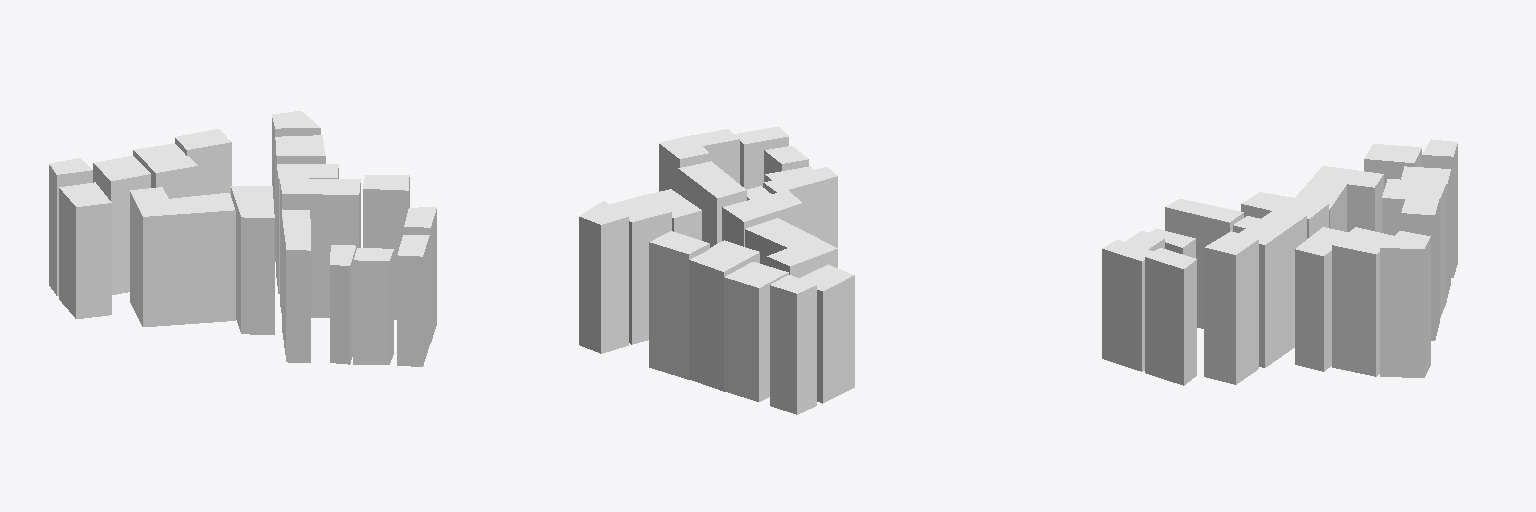
The model's file is Level_v1-Buildings.obj.
3 renders of one model, left to right at view 1: azimuth 30°, elevation 25°; view 2: azimuth 150°, elevation 25°; view 3: azimuth 270°, elevation 25°, orthographic.
Parts seen in each view (by area): view 1: Level_v1-Buildings; view 2: Level_v1-Buildings; view 3: Level_v1-Buildings.
Part boxes in pixels (left/top/right/bottom): Level_v1-Buildings: left=49, top=111, right=436, bottom=366; Level_v1-Buildings: left=579, top=126, right=854, bottom=414; Level_v1-Buildings: left=1102, top=139, right=1457, bottom=385.
Size of the model in its own units: 417 by 194 by 482.